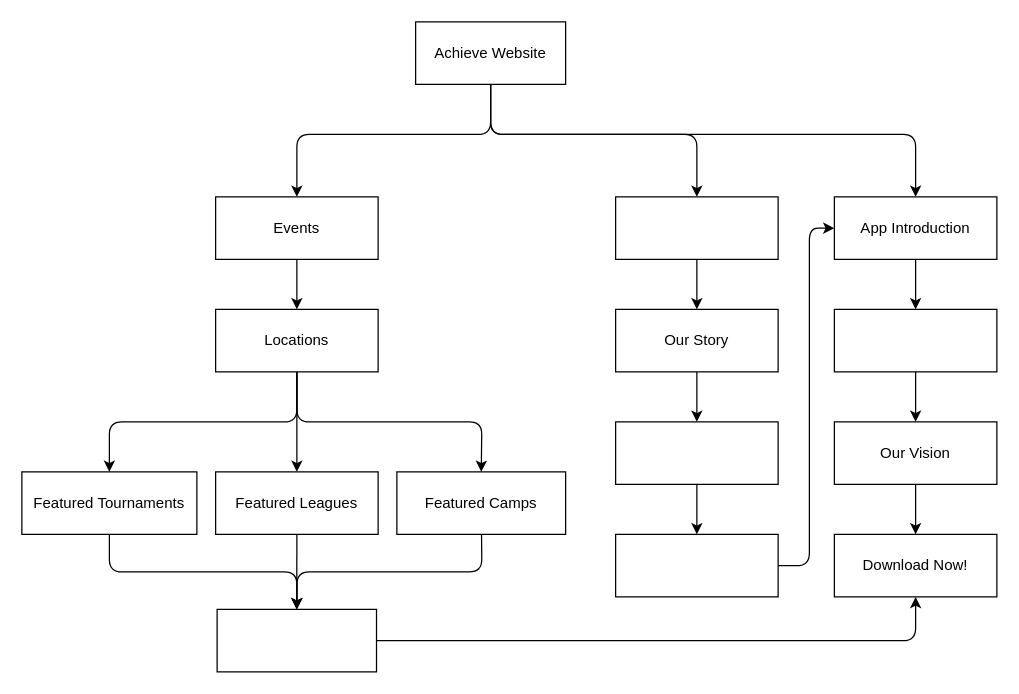
The diagram is 1019 pixels wide and 694 high, and some of its shapes have lost their labels. Here are the shapes that lost their labels. From the top down, the centre of each, then its label:
At [696,227]: "Company Introduction".
At [915,340]: "Features".
At [696,452]: "What we do".
At [696,565]: "Business Overview".
At [296,640]: "Registration".
